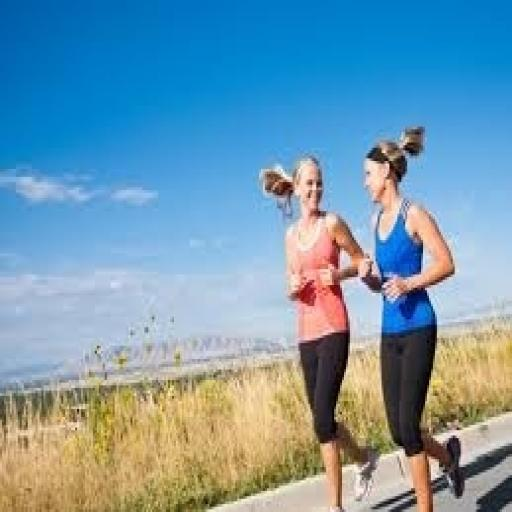running: (259, 150, 381, 510), (356, 124, 468, 509)
